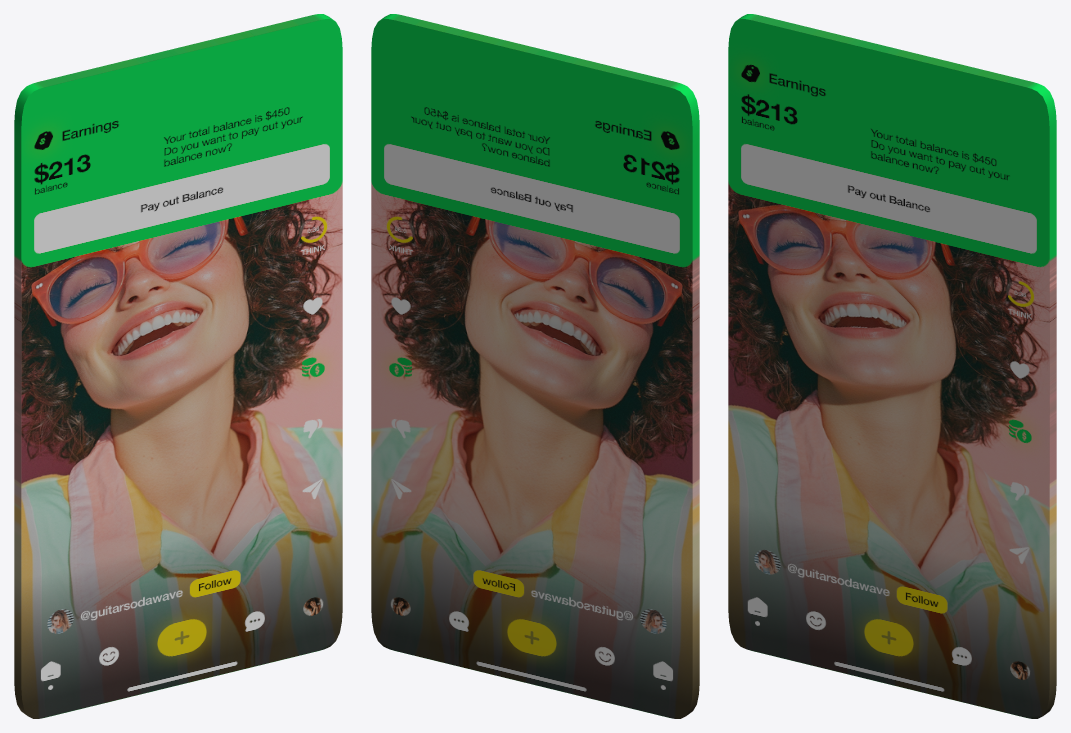
File: csh.glb
3 views of the same model, side by side, from view 1: azimuth 30°, elevation 25°; view 2: azimuth 150°, elevation 25°; view 3: azimuth 330°, elevation 25° (orthographic).
Visible parts, largest first — view 1: Plane; view 2: Plane; view 3: Plane.
Boxes of the visible parts, bbox=[...] form: Plane: bbox=[14, 14, 342, 718]; Plane: bbox=[371, 14, 699, 718]; Plane: bbox=[728, 14, 1056, 718].
Bounding box in the file's own units: 2 × 3.75 × 0.076.
Materials: 1 (1 with a texture image).
